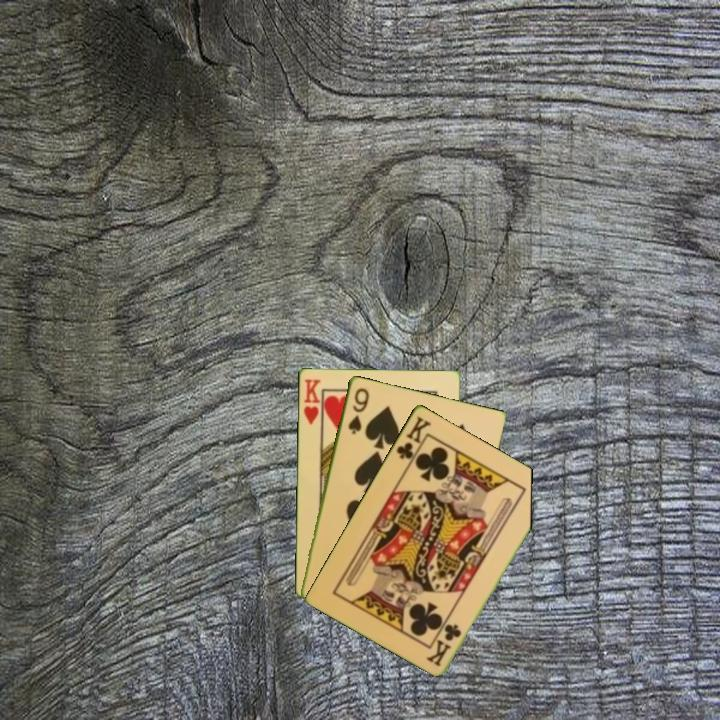9s: (344, 384, 372, 437)
Kc: (392, 412, 434, 468), (425, 620, 464, 669)
Kh: (300, 375, 324, 430)
